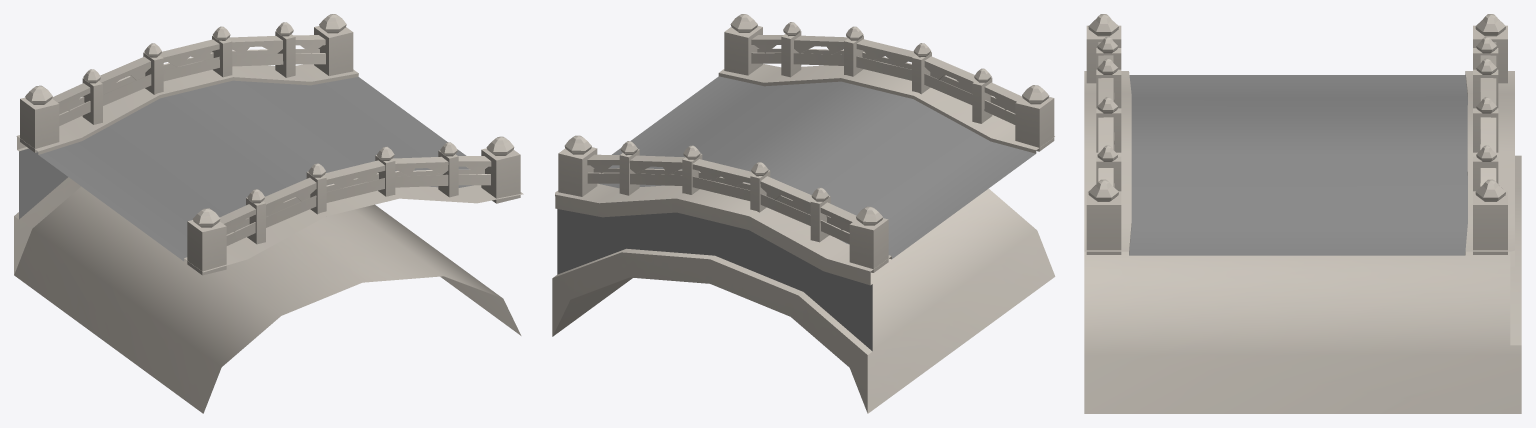
Rendered from bridge.fbx.
The picture shows the model from 3 angles, left to right: view 1: azimuth 30°, elevation 25°; view 2: azimuth 150°, elevation 25°; view 3: azimuth 270°, elevation 25°; orthographic projection. The views are drawn at different scales.
Visible parts, largest first — view 1: bridge; view 2: bridge; view 3: bridge.
Boxes of the visible parts, left/top/right/bottom form: bridge: left=14, top=14, right=523, bottom=413; bridge: left=552, top=14, right=1055, bottom=413; bridge: left=1084, top=14, right=1521, bottom=413.
Bounding box in the file's own units: 769 × 487 × 787.
